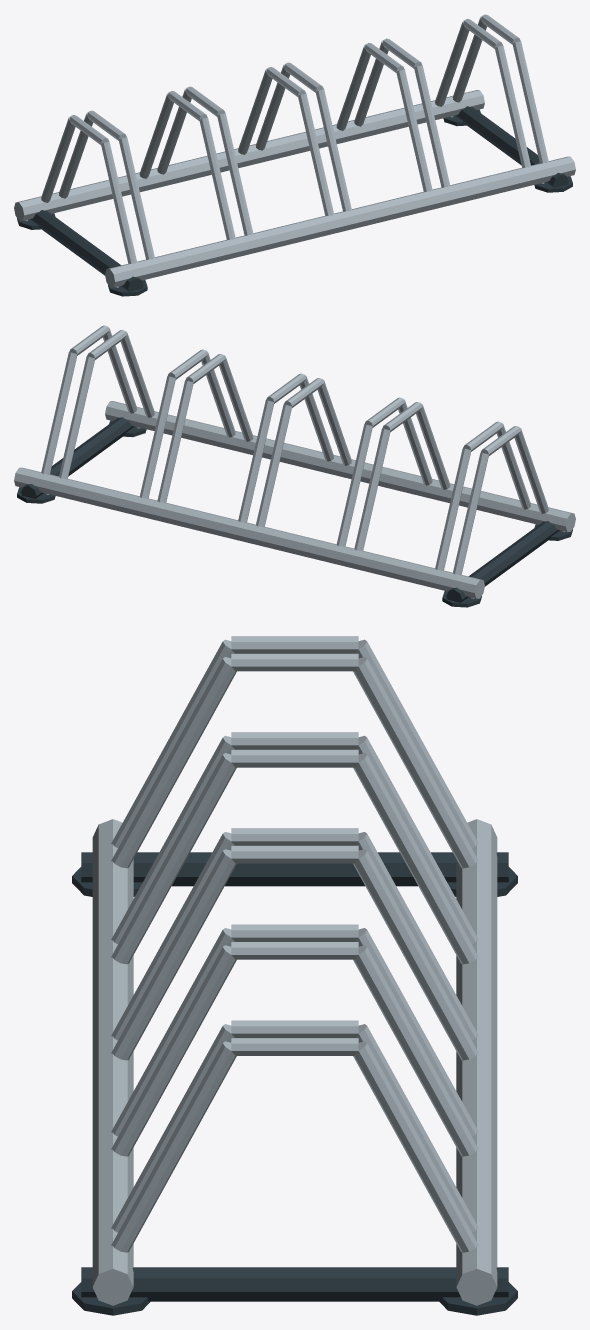
The model's file is b01_five_slot_wheel_bike_rack.glb.
The picture shows the model from 3 angles, top to bottom: view 1: azimuth 30°, elevation 25°; view 2: azimuth 150°, elevation 25°; view 3: azimuth 270°, elevation 25°; orthographic projection. The views are drawn at different scales.
Parts seen in each view (by area): view 1: b01_five_slot_wheel_bike_rack; view 2: b01_five_slot_wheel_bike_rack; view 3: b01_five_slot_wheel_bike_rack.
Boxes of the visible parts, bbox=[...] form: b01_five_slot_wheel_bike_rack: bbox=[14, 14, 575, 296]; b01_five_slot_wheel_bike_rack: bbox=[14, 325, 575, 607]; b01_five_slot_wheel_bike_rack: bbox=[72, 636, 517, 1315].
Bounding box in the file's own units: 2.34 × 0.621 × 0.98.
